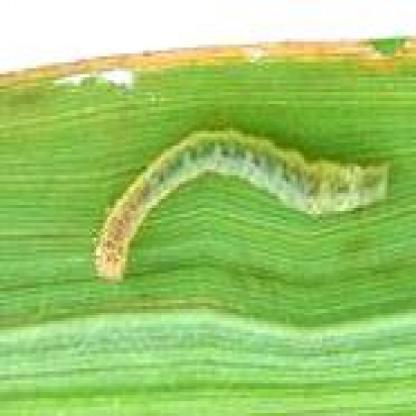leaf-folder: (90, 102, 385, 300)
